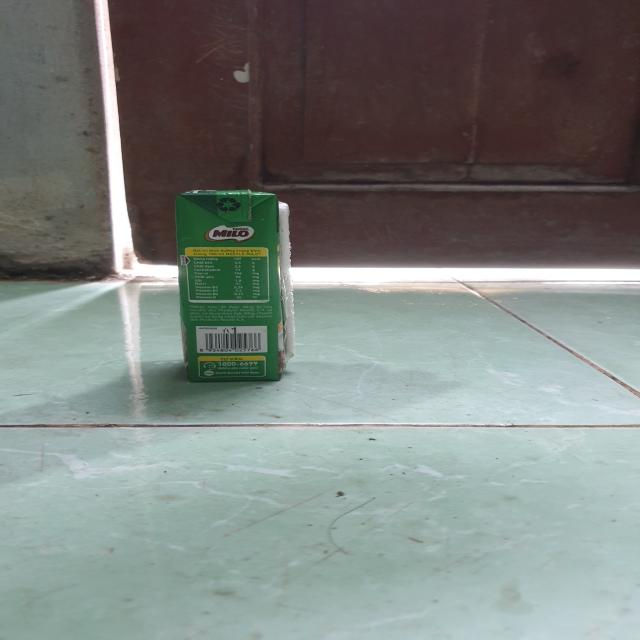Milo: (173, 190, 303, 385)
